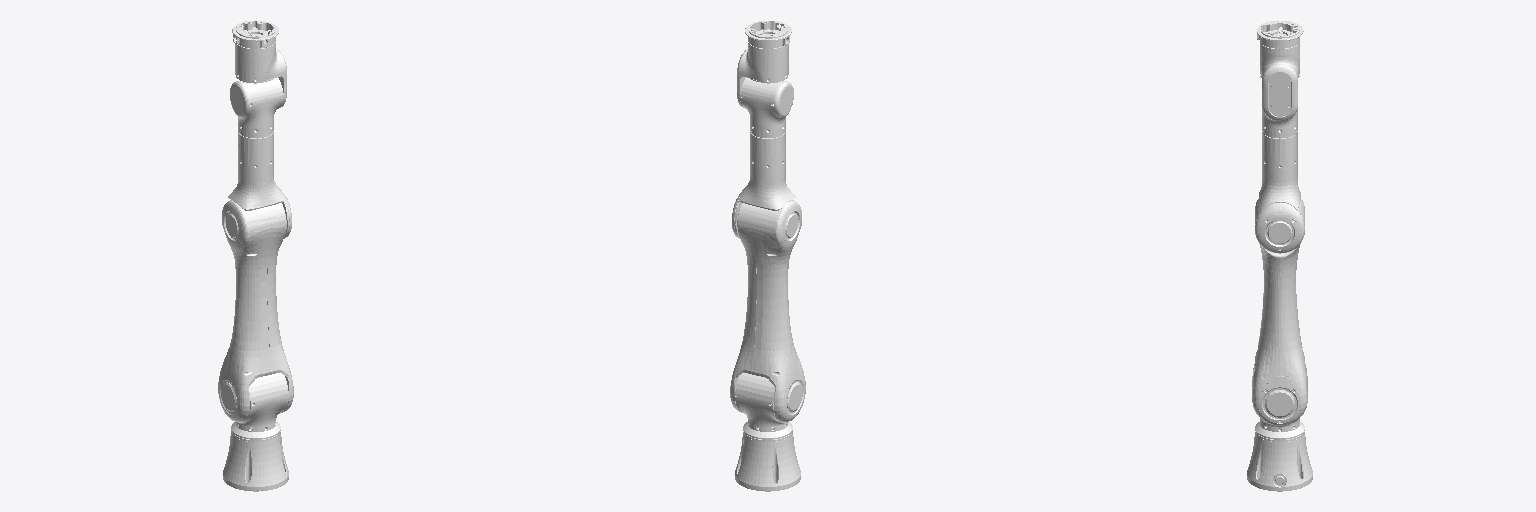
robot.urdf — arm620:
<?xml version="1.0" encoding="utf-8"?>
<robot
  name="arm620">
  <link
    name="base_link">
    <inertial>
      <origin
        xyz="-3.493E-05 1.9321E-08 0.041738"
        rpy="0 0 0" />
      <mass
        value="1.235" />
      <inertia
        ixx="0.00069305"
        ixy="-2.4629E-09"
        ixz="-7.7538E-07"
        iyy="0.00069224"
        iyz="1.1986E-09"
        izz="0.00059207" />
    </inertial>
    <visual>
      <origin
        xyz="0 0 0"
        rpy="0 0 0" />
      <geometry>
        <mesh
          filename="meshes/arm620/base_link.STL" />
      </geometry>
      <material
        name="">
        <color
          rgba="1 1 1 1" />
      </material>
    </visual>
    <collision>
      <origin
        xyz="0 0 0"
        rpy="0 0 0" />
      <geometry>
        <mesh
          filename="meshes/arm620/base_link.STL" />
      </geometry>
    </collision>
  </link>
  <link
    name="Link1">
    <inertial>
      <origin
        xyz="0.0083082 -9.0414E-07 0.066279"
        rpy="0 0 0" />
      <mass
        value="1.0225" />
      <inertia
        ixx="0.00033468"
        ixy="-1.0629E-08"
        ixz="-6.9769E-06"
        iyy="0.0002898"
        iyz="-1.0465E-08"
        izz="0.00026359" />
    </inertial>
    <visual>
      <origin
        xyz="0 0 0"
        rpy="0 0 0" />
      <geometry>
        <mesh
          filename="meshes/arm620/Link1.STL" />
      </geometry>
      <material
        name="">
        <color
          rgba="1 1 1 1" />
      </material>
    </visual>
    <collision>
      <origin
        xyz="0 0 0"
        rpy="0 0 0" />
      <geometry>
        <mesh
          filename="meshes/arm620/Link1.STL" />
      </geometry>
    </collision>
  </link>
  <joint
    name="joint1"
    type="revolute">
    <origin
      xyz="0 0 0.084"
      rpy="0 0 0" />
    <parent
      link="base_link" />
    <child
      link="Link1" />
    <axis
      xyz="0 0 1" />
    <limit
      lower="-2.967"
      upper="2.967"
      effort="0"
      velocity="0" />
  </joint>
  <link
    name="Link2">
    <inertial>
      <origin
        xyz="1.6176E-06 0.19554 -0.0019139"
        rpy="0 0 0" />
      <mass
        value="1.925" />
      <inertia
        ixx="0.0092613"
        ixy="2.9244E-08"
        ixz="-6.7107E-09"
        iyy="0.00075528"
        iyz="-1.5539E-05"
        izz="0.0090845" />
    </inertial>
    <visual>
      <origin
        xyz="0 0 0"
        rpy="0 0 0" />
      <geometry>
        <mesh
          filename="meshes/arm620/Link2.STL" />
      </geometry>
      <material
        name="">
        <color
          rgba="1 1 1 1" />
      </material>
    </visual>
    <collision>
      <origin
        xyz="0 0 0"
        rpy="0 0 0" />
      <geometry>
        <mesh
          filename="meshes/arm620/Link2.STL" />
      </geometry>
    </collision>
  </link>
  <joint
    name="joint2"
    type="revolute">
    <origin
      xyz="0 0 0.068718"
      rpy="1.5708 0 -1.5708" />
    <parent
      link="Link1" />
    <child
      link="Link2" />
    <axis
      xyz="0 0 -1" />
    <limit
      lower="-1.5708"
      upper="1.5708"
      effort="0"
      velocity="0" />
  </joint>
  <link
    name="Link3">
    <inertial>
      <origin
        xyz="1.8251E-05 -0.073691 0.010704"
        rpy="0 0 0" />
      <mass
        value="0.73" />
      <inertia
        ixx="0.00059318"
        ixy="1.2073E-07"
        ixz="1.9423E-08"
        iyy="0.00015563"
        iyz="-0.00011324"
        izz="0.00055379" />
    </inertial>
    <visual>
      <origin
        xyz="0 0 0"
        rpy="0 0 0" />
      <geometry>
        <mesh
          filename="meshes/arm620/Link3.STL" />
      </geometry>
      <material
        name="">
        <color
          rgba="1 1 1 1" />
      </material>
    </visual>
    <collision>
      <origin
        xyz="0 0 0"
        rpy="0 0 0" />
      <geometry>
        <mesh
          filename="meshes/arm620/Link3.STL" />
      </geometry>
    </collision>
  </link>
  <joint
    name="joint3"
    type="revolute">
    <origin
      xyz="0 0.30025 0"
      rpy="-3.1416 0 0" />
    <parent
      link="Link2" />
    <child
      link="Link3" />
    <axis
      xyz="0 0 1" />
    <limit
      lower="-1.5708"
      upper="1.5708"
      effort="0"
      velocity="0" />
  </joint>
  <link
    name="Link4">
    <inertial>
      <origin
        xyz="0.0059454 2.5068E-05 0.051809"
        rpy="0 0 0" />
      <mass
        value="0.5174" />
      <inertia
        ixx="0.00010342"
        ixy="-7.9433E-09"
        ixz="-7.9245E-06"
        iyy="0.0001193"
        iyz="-1.6196E-08"
        izz="8.5637E-05" />
    </inertial>
    <visual>
      <origin
        xyz="0 0 0"
        rpy="0 0 0" />
      <geometry>
        <mesh
          filename="meshes/arm620/Link4.STL" />
      </geometry>
      <material
        name="">
        <color
          rgba="1 1 1 1" />
      </material>
    </visual>
    <collision>
      <origin
        xyz="0 0 0"
        rpy="0 0 0" />
      <geometry>
        <mesh
          filename= "meshes/arm620/Link4.STL" />
      </geometry>
    </collision>
  </link>
  <joint
    name="joint4"
    type="revolute">
    <origin
      xyz="0 -0.15558 3.5E-05"
      rpy="1.5708 -1.5708 0" />
    <parent
      link="Link3" />
    <child
      link="Link4" />
    <axis
      xyz="0 0 1" />
    <limit
      lower="-2.967"
      upper="2.967"
      effort="0"
      velocity="0" />
  </joint>
  <link
    name="Link5">
    <inertial>
      <origin
        xyz="0.0095168 0.061153 1.0106E-05"
        rpy="0 0 0" />
      <mass
        value="0.7233" />
      <inertia
        ixx="0.00013586"
        ixy="3.9115E-05"
        ixz="3.3963E-08"
        iyy="0.00010055"
        iyz="-1.3885E-07"
        izz="0.0001594" />
    </inertial>
    <visual>
      <origin
        xyz="0 0 0"
        rpy="0 0 0" />
      <geometry>
        <mesh
          filename= "meshes/arm620/Link5.STL" />
      </geometry>
      <material
        name="">
        <color
          rgba="1 1 1 1" />
      </material>
    </visual>
    <collision>
      <origin
        xyz="0 0 0"
        rpy="0 0 0" />
      <geometry>
        <mesh
          filename= "meshes/arm620/Link5.STL" />
      </geometry>
    </collision>
  </link>
  <joint
    name="joint5"
    type="revolute">
    <origin
      xyz="-3.5E-05 1.5362E-05 0.064223"
      rpy="1.5708 0 0" />
    <parent
      link="Link4" />
    <child
      link="Link5" />
    <axis
      xyz="1 0 0" />
    <limit
      lower="-1.5708"
      upper="1.5708"
      effort="0"
      velocity="0" />
  </joint>
  <link
    name="Link6">
    <inertial>
      <origin
        xyz="-0.0023023 0.0016027 0.010682"
        rpy="0 0 0" />
      <mass
        value="0.0953" />
      <inertia
        ixx="1.3179E-05"
        ixy="-9.4826E-08"
        ixz="2.2437E-07"
        iyy="1.3416E-05"
        iyz="-1.8512E-07"
        izz="2.4622E-05" />
    </inertial>
    <visual>
      <origin
        xyz="0 0 0"
        rpy="0 0 0" />
      <geometry>
        <mesh
          filename= "meshes/arm620/Link6.STL" />
      </geometry>
      <material
        name="">
        <color
          rgba="1 1 1 1" />
      </material>
    </visual>
    <collision>
      <origin
        xyz="0 0 0"
        rpy="0 0 0" />
      <geometry>
        <mesh
          filename= "meshes/arm620/Link6.STL" />
      </geometry>
    </collision>
  </link>
  <joint
    name="joint6"
    type="revolute">
    <origin
      xyz="-0.00047523 0.095552 0"
      rpy="-1.5709 0 0" />
    <parent
      link="Link5" />
    <child
      link="Link6" />
    <axis
      xyz="0 0 1" />
    <limit
      lower="-2.967"
      upper="2.967"
      effort="0"
      velocity="0" />
  </joint>
  <link
    name="gripper_link">
    <inertial>
      <origin
        xyz="-3.9257E-06 -0.00027208 0.0435"
        rpy="0 0 0" />
      <mass
        value="1.0" />
      <inertia
        ixx="0.00036805"
        ixy="-7.2868E-08"
        ixz="-5.0168E-08"
        iyy="0.0003341"
        iyz="-2.6462E-06"
        izz="0.00022294" />
    </inertial>
    <visual>
      <origin
        xyz="0 0 0"
        rpy="0 0 0" />
      <geometry>
        <mesh
          filename="meshes/dahuan_gripper/gripper_link.STL" />
      </geometry>
      <material
        name="">
        <color
          rgba="1 1 1 1" />
      </material>
    </visual>
    <collision>
      <origin
        xyz="0 0 0"
        rpy="0 0 0" />
      <geometry>
        <mesh
          filename="meshes/dahuan_gripper/gripper_link.STL" />
      </geometry>
    </collision>
  </link>
    <joint
    name="gripper_mount_joint"
    type="fixed">
    <origin xyz="0 0 0.02" rpy="0 0 0" />
    <parent link="Link6"/>
    <child link="gripper_link"/>
  </joint>
  <link
    name="finger1_link">
    <inertial>
      <origin
        xyz="0.0030491 -0.0066024 0.0064209"
        rpy="0 0 0" />
      <mass
        value="0.014278" />
      <inertia
        ixx="1.7567E-06"
        ixy="-5.7832E-08"
        ixz="2.6803E-08"
        iyy="2.3034E-06"
        iyz="2.2145E-07"
        izz="1.3354E-06" />
    </inertial>
    <visual>
      <origin
        xyz="0 0 0"
        rpy="0 0 0" />
      <geometry>
        <mesh
          filename="meshes/dahuan_gripper/finger1_Link.STL" />
      </geometry>
      <material
        name="">
        <color
          rgba="1 1 1 1" />
      </material>
    </visual>
    <collision>
      <origin
        xyz="0 0 0"
        rpy="0 0 0" />
      <geometry>
        <mesh
          filename="meshes/dahuan_gripper/finger1_Link.STL" />
      </geometry>
    </collision>
  </link>
  <joint
    name="finger1_joint"
    type="fixed">
    <origin
      xyz="0.0132 0.0265 0.093"
      rpy="0 0 -1.5708" />
    <parent
      link="gripper_link" />
    <child
      link="finger1_link" />
    <axis
      xyz="1 0 0" />
    <limit
      lower="0"
      upper="0.025"
      effort="140"
      velocity="1" />
  </joint>
  <link
    name="finger2_link">
    <inertial>
      <origin
        xyz="0.0030491 -0.0066024 0.0064209"
        rpy="0 0 0" />
      <mass
        value="0.014278" />
      <inertia
        ixx="1.7567E-06"
        ixy="-5.7832E-08"
        ixz="2.6803E-08"
        iyy="2.3034E-06"
        iyz="2.2145E-07"
        izz="1.3354E-06" />
    </inertial>
    <visual>
      <origin
        xyz="0 0 0"
        rpy="0 0 0" />
      <geometry>
        <mesh
          filename="meshes/dahuan_gripper/finger2_Link.STL" />
      </geometry>
      <material
        name="">
        <color
          rgba="0.79216 0.81961 0.93333 1" />
      </material>
    </visual>
    <collision>
      <origin
        xyz="0 0 0"
        rpy="0 0 0" />
      <geometry>
        <mesh
          filename="meshes/dahuan_gripper/finger2_Link.STL" />
      </geometry>
    </collision>
  </link>
  <joint
    name="finger2_joint"
    type="fixed">
    <origin
      xyz="-0.0132 -0.0265 0.093"
      rpy="0 0 1.5708" />
    <parent
      link="gripper_link" />
    <child
      link="finger2_link" />
    <axis
      xyz="1 0 0" />
    <limit
      lower="0"
      upper="0.025"
      effort="140"
      velocity="1" />
    <mimic
      joint="finger1_joint"
      multiplier="1"
      offset="0" />
  </joint>
  <link name="world"/>
  <joint name="base_joint" type="fixed">
      <parent link="world"/>
      <child link="base_link"/>
      <origin xyz="0 0 0" rpy="0 0 0" />
      <axis xyz="0 0 1" />
  </joint>
  
</robot>

--- Render facts (derived) ---
The picture shows the robot from 3 angles, left to right: view 1: azimuth 30°, elevation 25°; view 2: azimuth 150°, elevation 25°; view 3: azimuth 270°, elevation 25°; orthographic projection.
Model arm620 with 11 links and 10 joints (6 revolute, 4 fixed), rooted at world, posed every joint at zero.
Links seen in each view (by area): view 1: Link2, base_link, Link3, Link4, Link5, Link1, Link6; view 2: Link2, base_link, Link3, Link4, Link5, Link1, Link6; view 3: Link2, Link3, base_link, Link5, Link6, Link4.
Link boxes in pixels (x1,y1,x2,y2): Link2: (218,200,293,422); base_link: (223,421,288,491); Link3: (228,132,291,238); Link4: (230,77,283,137); Link5: (235,34,286,107); Link1: (237,373,288,429); Link6: (232,20,278,48); Link2: (730,200,805,422); base_link: (735,421,800,491); Link3: (732,132,795,238); Link4: (740,77,793,137); Link5: (737,34,788,107); Link1: (735,373,786,429); Link6: (745,20,791,48); Link2: (1252,199,1307,425); Link3: (1255,131,1304,253); base_link: (1247,421,1312,491); Link5: (1260,32,1299,120); Link6: (1257,20,1303,48); Link4: (1262,108,1297,138).
Size in the robot's own frame: 0.1059 by 0.1059 by 0.7893 metres.
Meshes: 10 distinct files referenced, 7 mesh visuals loaded (7 binary STL); not drawn: 3 (reference not matched to a file when rendering).
